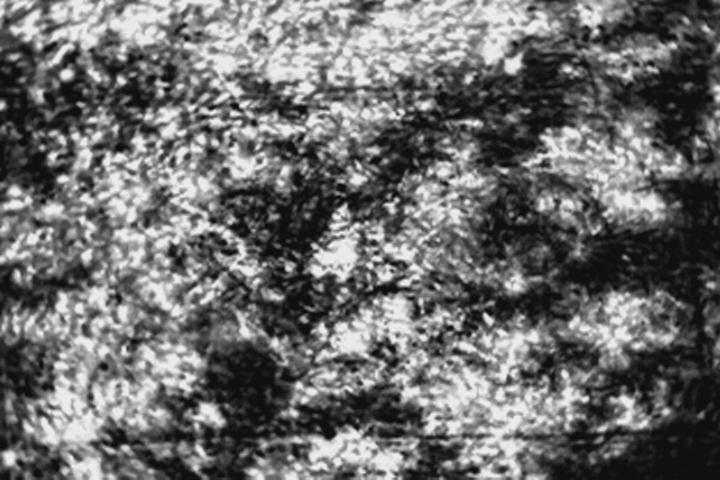landmine: (311, 237, 361, 270)
